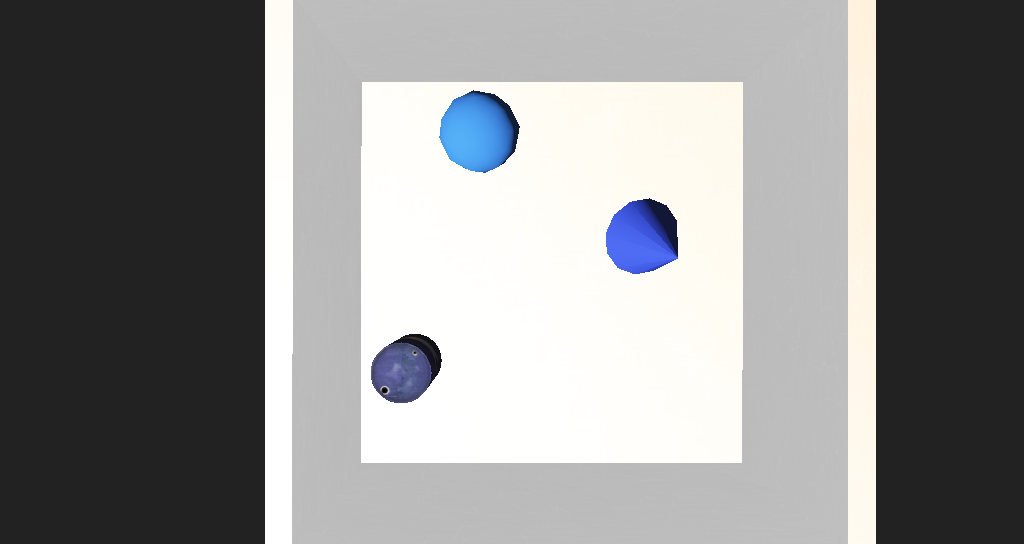cone: (364, 301, 418, 339)
cylinder: (549, 224, 637, 282)
sphere: (421, 167, 482, 215)
